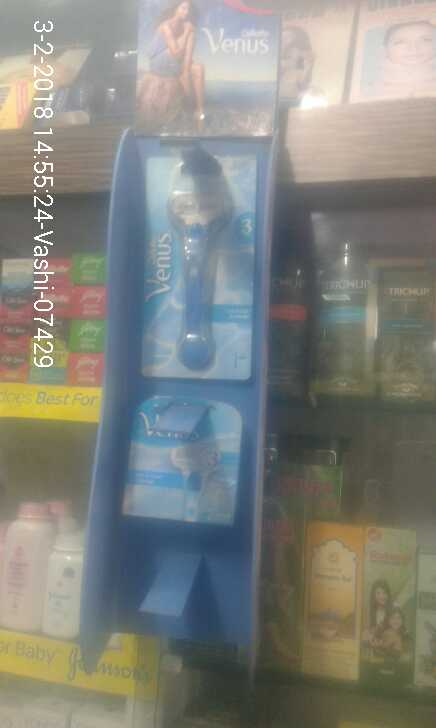venus: (129, 142, 269, 385), (115, 389, 244, 531)
